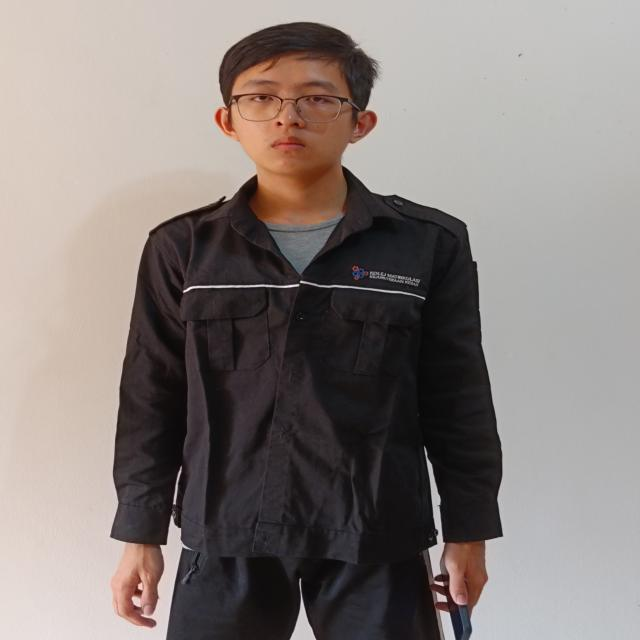person_with_labcoat: (112, 23, 502, 640)
